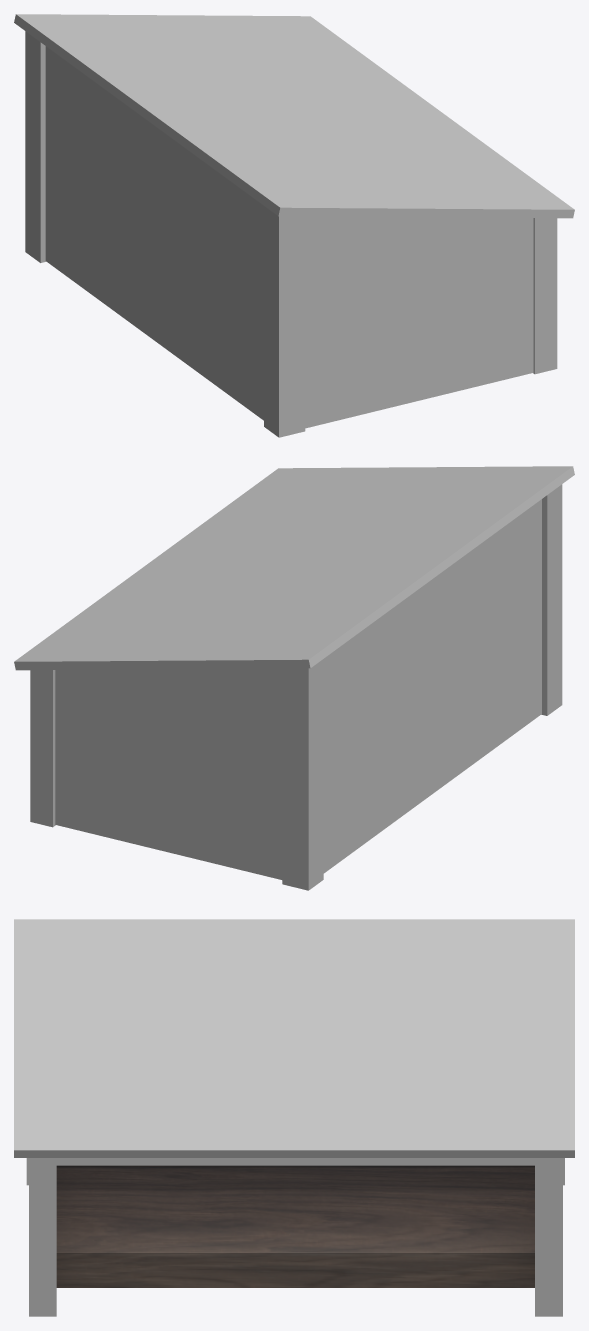
The model's file is TiendaFBXTex.fbx.
The picture shows the model from 3 angles, top to bottom: view 1: azimuth 30°, elevation 25°; view 2: azimuth 150°, elevation 25°; view 3: azimuth 270°, elevation 25°; orthographic projection. The views are drawn at different scales.
Visible parts, largest first — view 1: paredExterior_Geo, techo_Geo, vigaAtras_geo_01, vigaAtras_Geo_02, vigaDelante_Geo01; view 2: paredExterior_Geo, techo_Geo, vigaAtras_Geo_02, vigaAtras_geo_01, vigaDelante_Geo_02; view 3: techo_Geo, mesa_Geo, vigaDelante_Geo01, vigaDelante_Geo_02, paredInterior_Geo.
Boxes of the visible parts, bbox=[...] form: paredExterior_Geo: bbox=[45, 46, 533, 428]; techo_Geo: bbox=[14, 14, 574, 218]; vigaAtras_geo_01: bbox=[264, 206, 305, 437]; vigaAtras_Geo_02: bbox=[25, 31, 45, 262]; vigaDelante_Geo01: bbox=[533, 218, 557, 374]; paredExterior_Geo: bbox=[55, 499, 541, 879]; techo_Geo: bbox=[14, 466, 574, 670]; vigaAtras_Geo_02: bbox=[282, 659, 323, 890]; vigaAtras_geo_01: bbox=[541, 484, 562, 715]; vigaDelante_Geo_02: bbox=[30, 670, 55, 827]; techo_Geo: bbox=[14, 919, 574, 1157]; mesa_Geo: bbox=[56, 1165, 534, 1287]; vigaDelante_Geo01: bbox=[29, 1158, 56, 1316]; vigaDelante_Geo_02: bbox=[535, 1158, 562, 1316]; paredInterior_Geo: bbox=[58, 1158, 532, 1165].
Bounding box in the file's own units: 15.16 × 11.54 × 23.41.
